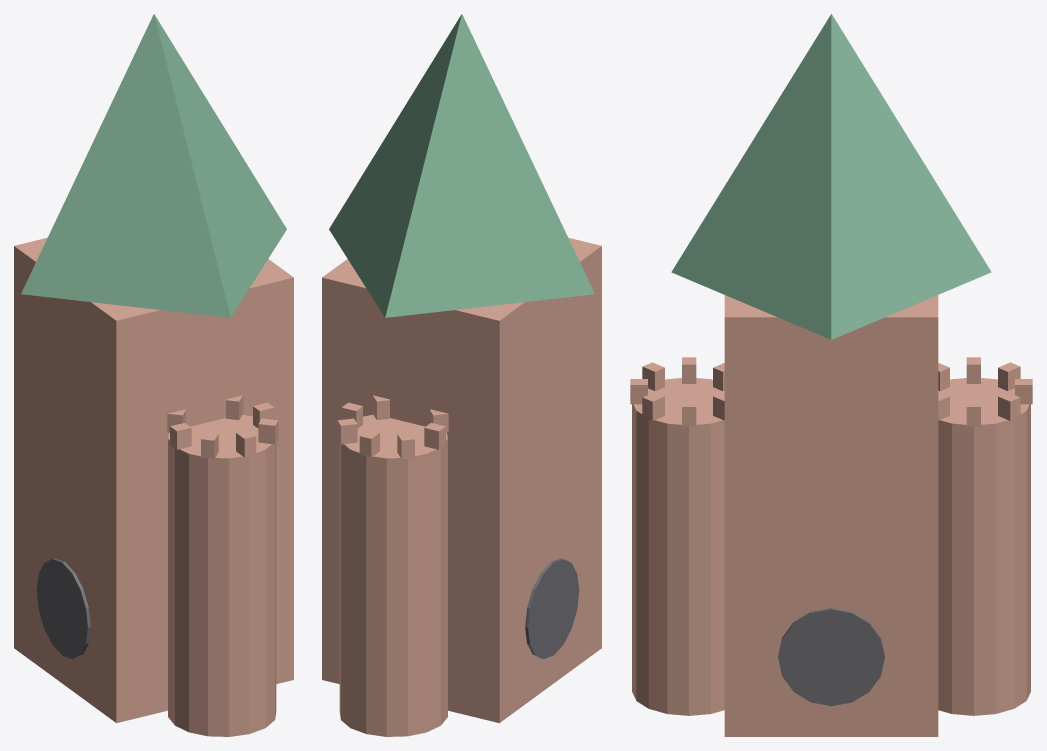
Rendered from basel-spalentor.glb.
3 renders of one model, left to right at view 1: azimuth 30°, elevation 25°; view 2: azimuth 150°, elevation 25°; view 3: azimuth 270°, elevation 25°, orthographic. The views are drawn at different scales.
Parts seen in each view (by area): view 1: building; view 2: building; view 3: building.
Boxes of the visible parts, bbox=[...] form: building: bbox=[14, 14, 293, 736]; building: bbox=[322, 14, 601, 736]; building: bbox=[630, 14, 1032, 736].
Size of the model in its own units: 18 by 42 by 22.6.
